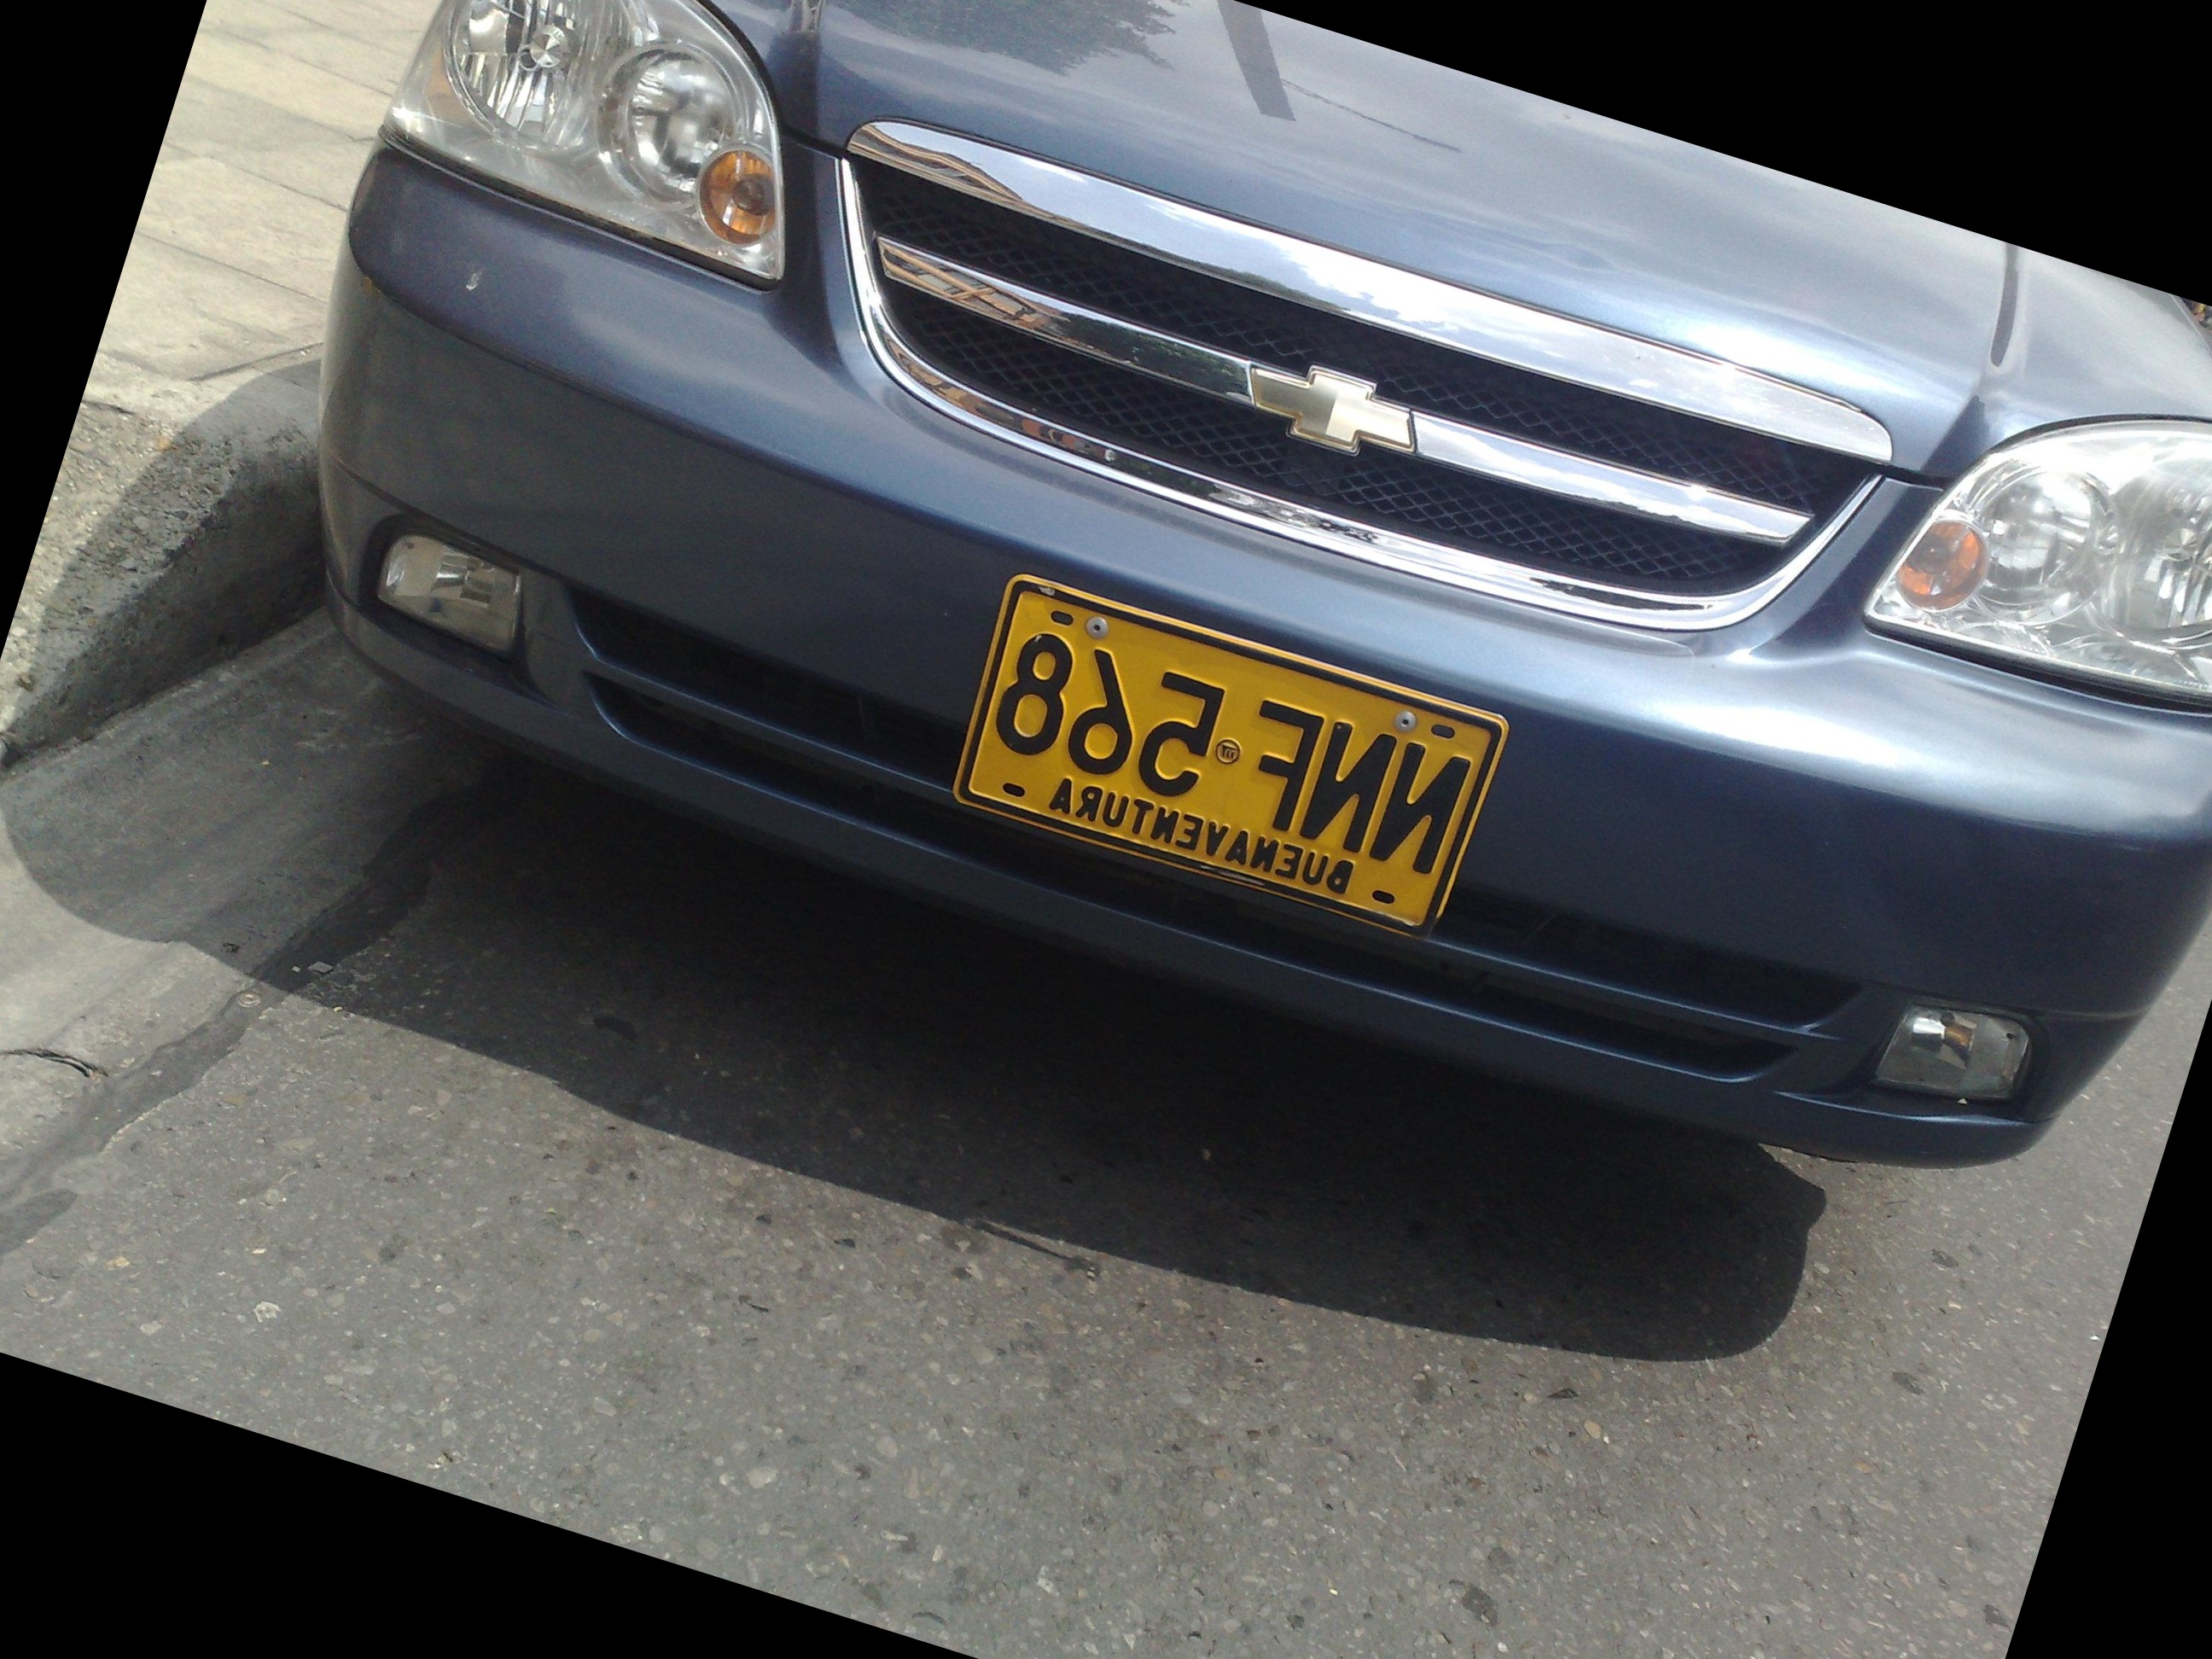placas: (934, 551, 1522, 963)
